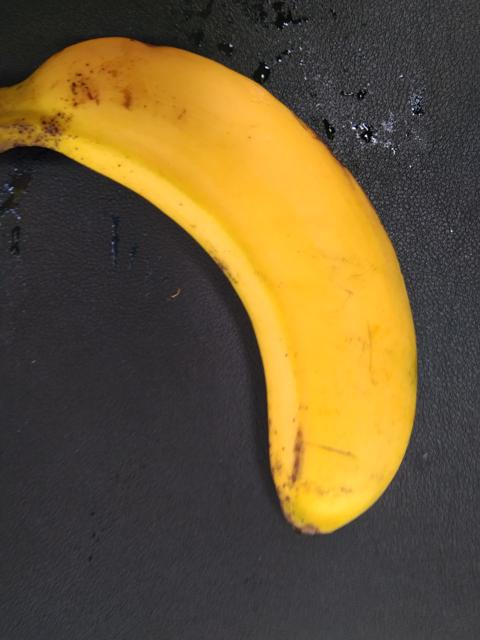freshripe: (0, 15, 441, 551)
